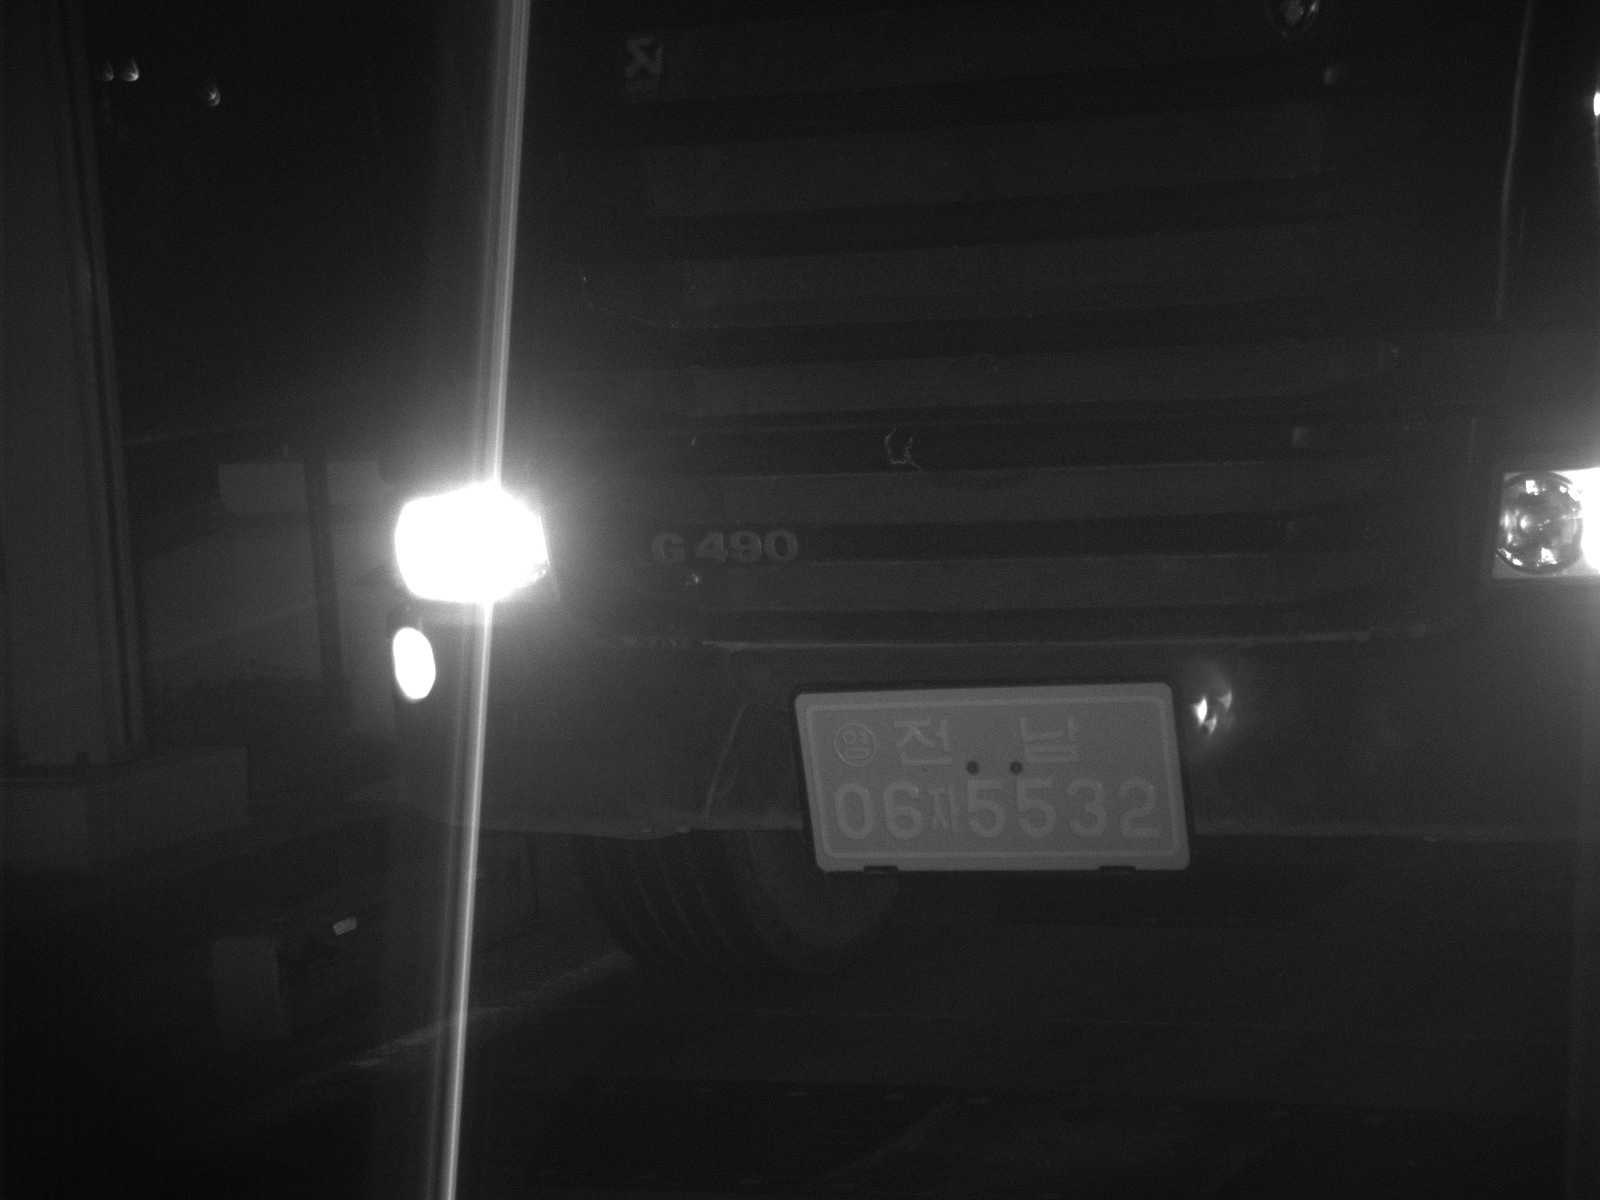car: (371, 1, 1600, 984)
plate: (782, 673, 1198, 878)
